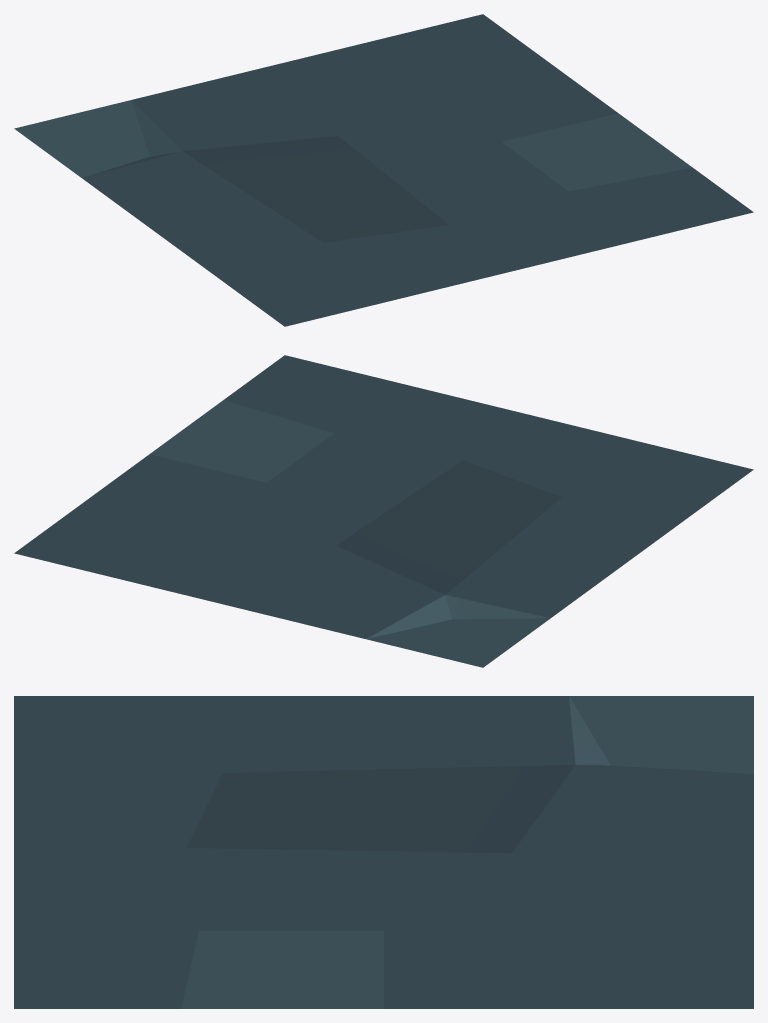
File: wall_2m_bottom.fbx
The picture shows the model from 3 angles, top to bottom: view 1: azimuth 30°, elevation 25°; view 2: azimuth 150°, elevation 25°; view 3: azimuth 270°, elevation 25°; orthographic projection. The views are drawn at different scales.
Visible parts, largest first — view 1: wall_2m_bottom; view 2: wall_2m_bottom; view 3: wall_2m_bottom.
Part boxes in pixels (box(x1,y1,x2,y2)): wall_2m_bottom: box(14, 14, 753, 326); wall_2m_bottom: box(14, 355, 753, 667); wall_2m_bottom: box(14, 696, 753, 1008).
Bounding box in the file's own units: 200 × 4.16 × 200.
